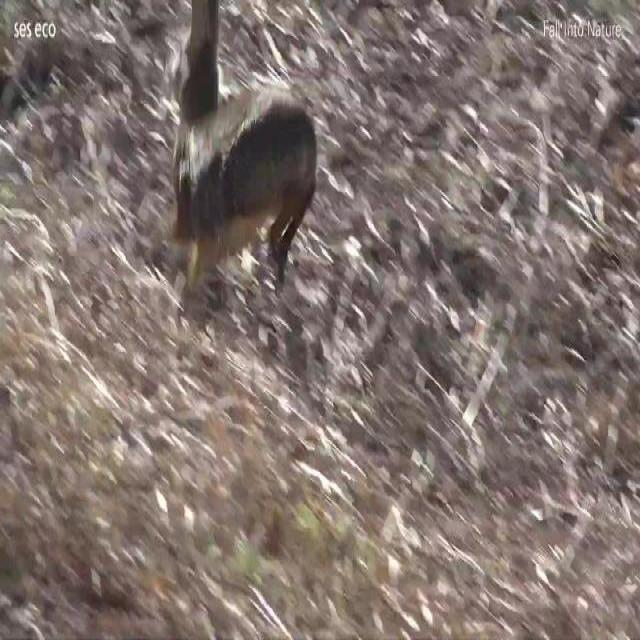deer: (174, 0, 318, 309)
